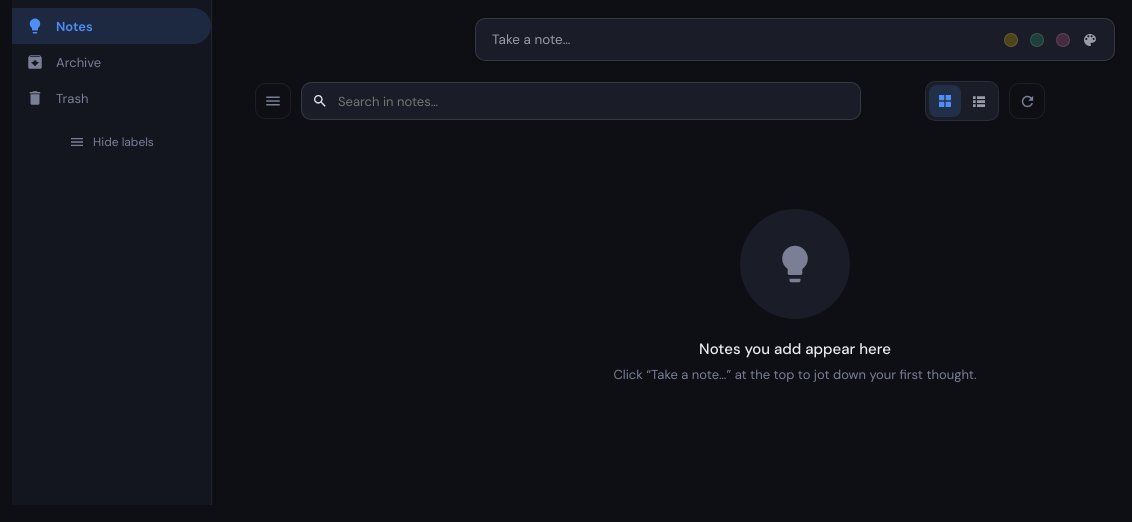
Test: collection switching shows the right empty states
The image size is (1132, 522).
Expected: the message is shown, [614,209,977,383]
Click the button "Archive" at point(112, 62), box [12,44,211,80]
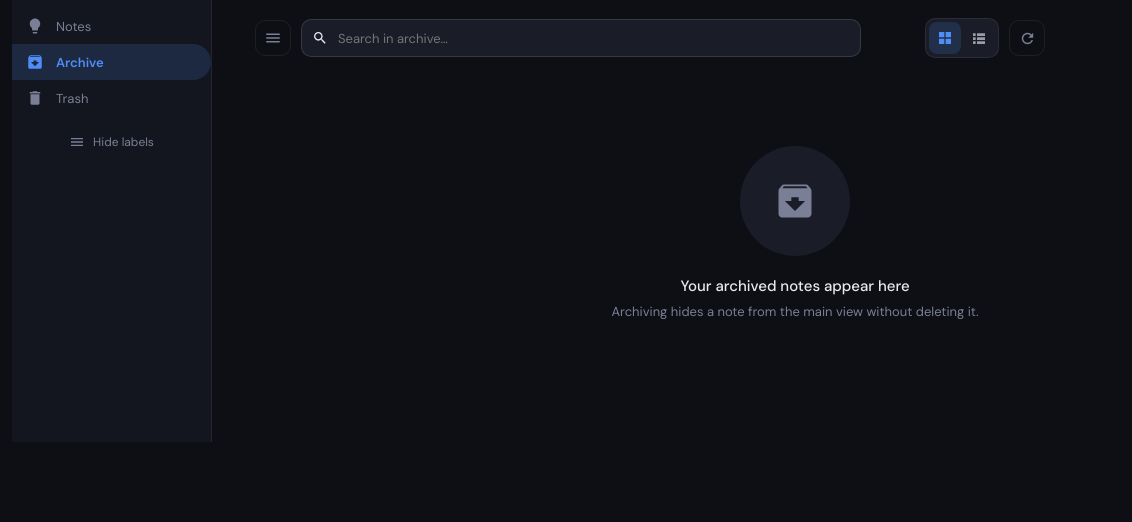
Expected: the text "Your archived notes appear here" is shown, [680,276,910,296]
Click the button "Trash" at point(112, 98), box [12,80,211,116]
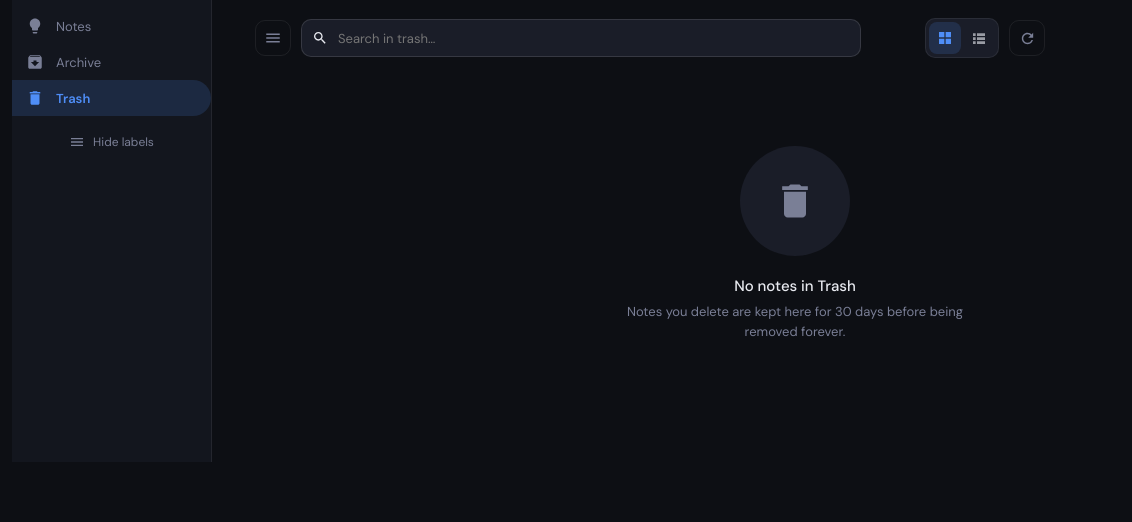
Expected: the text "No notes in Trash" is shown, [734,276,856,296]
